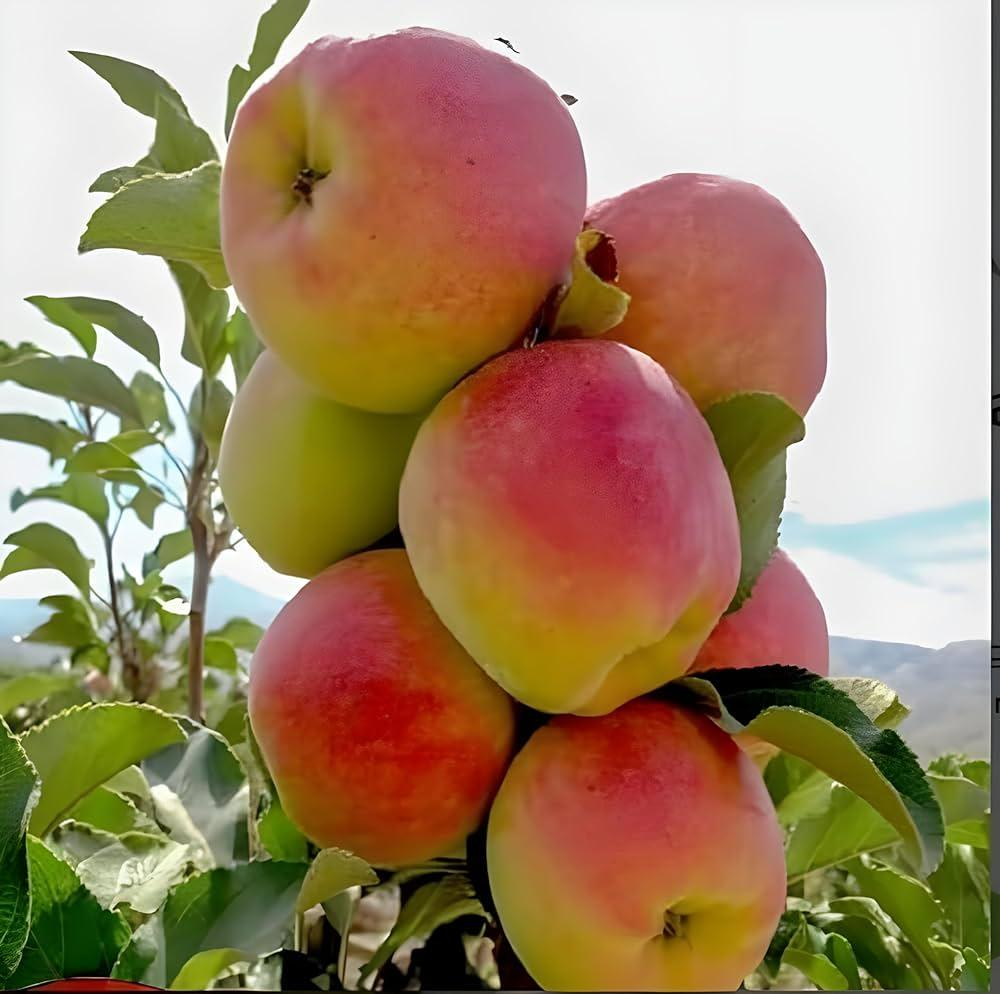apple: (401, 343, 740, 717), (223, 27, 545, 408), (453, 663, 805, 988), (577, 161, 868, 424), (245, 587, 504, 857), (189, 325, 445, 581)
